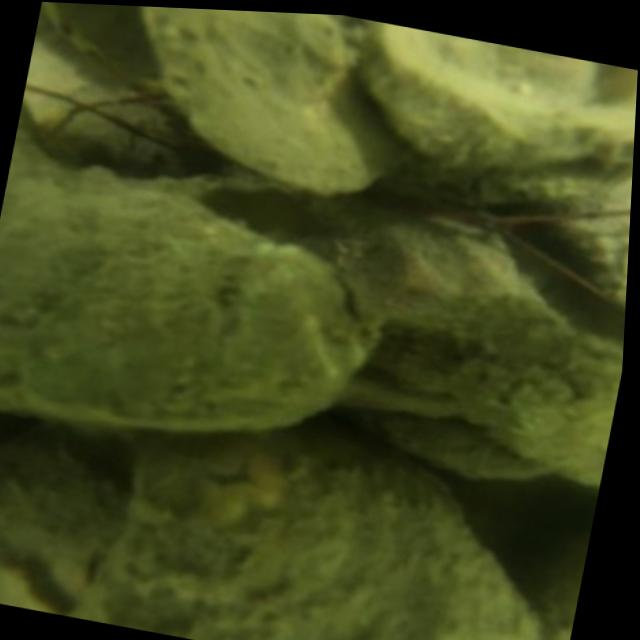Oyster-Indeterminate: (0, 167, 356, 430), (84, 438, 546, 640), (348, 227, 602, 471), (143, 6, 392, 197), (357, 24, 635, 185), (0, 427, 124, 608)
